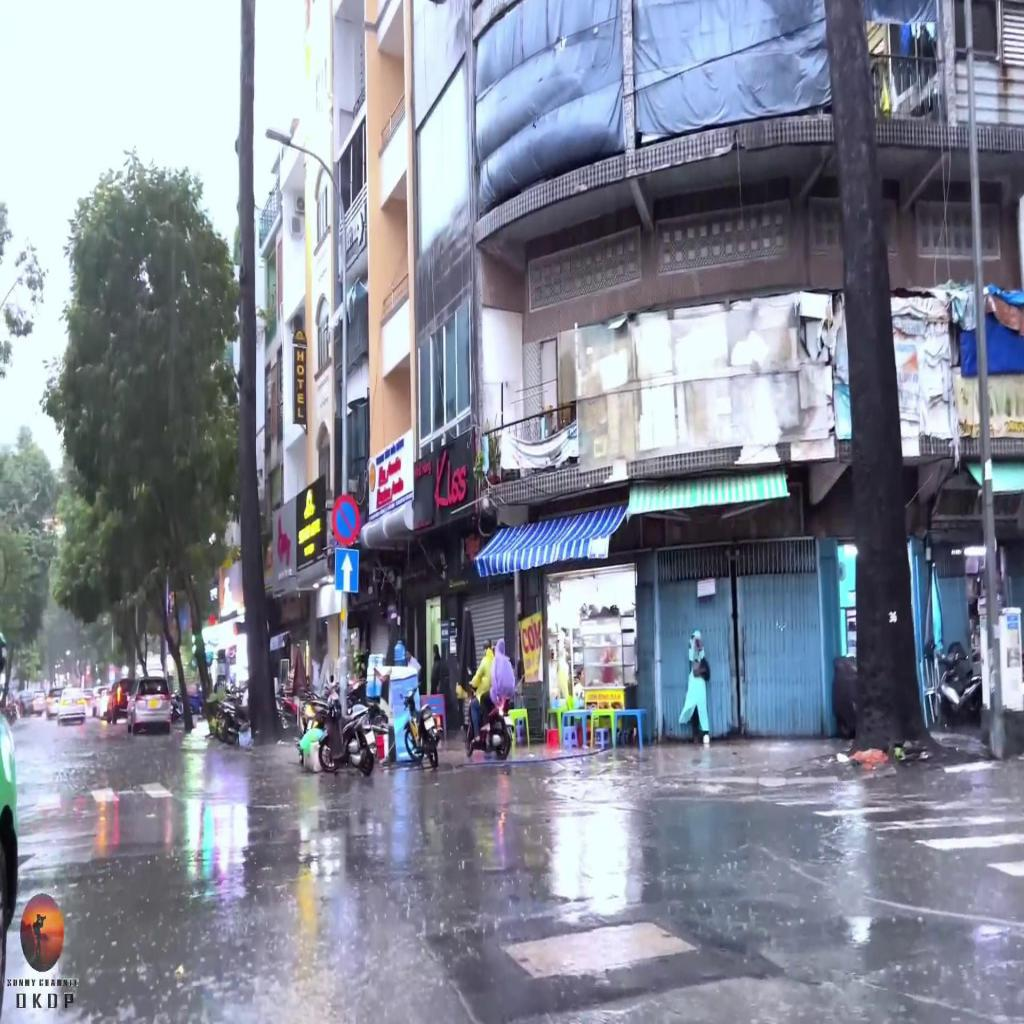cam_do_xe: (333, 493, 359, 544)
duong_mot_chieu: (336, 548, 358, 592)
